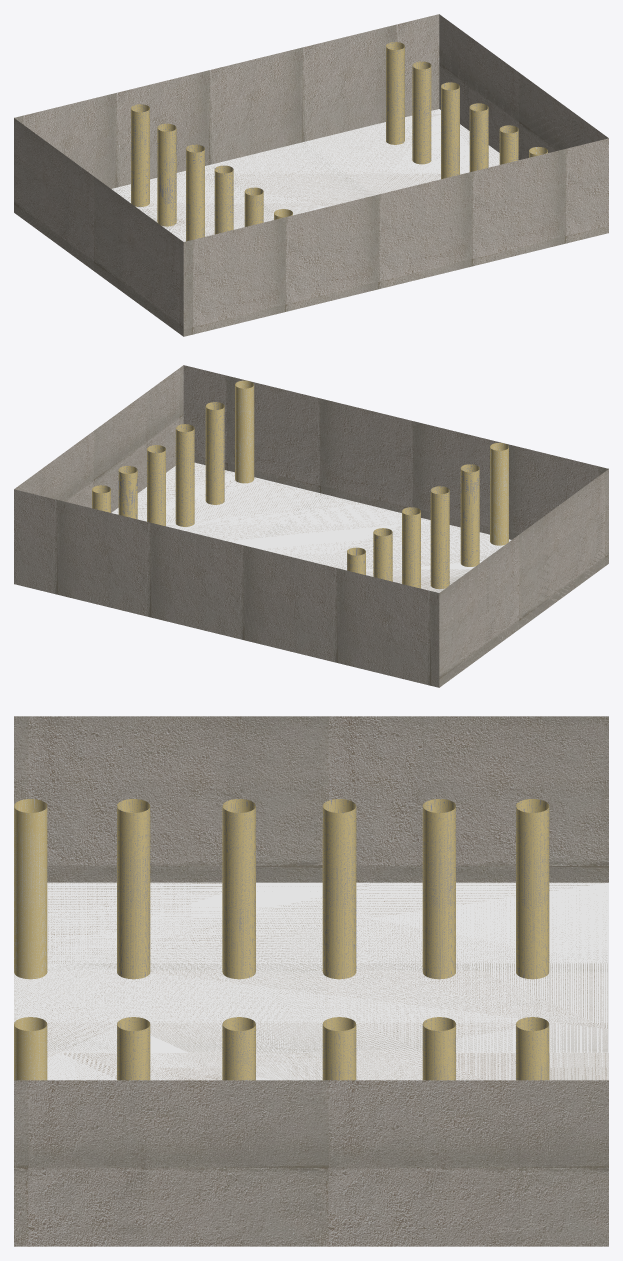
File: COM015.obj
3 renders of one model, top to bottom at view 1: azimuth 30°, elevation 25°; view 2: azimuth 150°, elevation 25°; view 3: azimuth 270°, elevation 25°, orthographic. The views are drawn at different scales.
Parts seen in each view (by area): view 1: Mesh3 Group1 Model, Mesh1 Group1 Model, Mesh11 Group1 Model, Mesh2 Group1 Model, Mesh4 Group1 Model, Mesh7 Group1 Model, Mesh9 Group1 Model, Mesh6 Group1 Model, Mesh10 Group1 Model, Mesh5 Group1 Model, Mesh8 Group1 Model; view 2: Mesh3 Group1 Model, Mesh6 Group1 Model, Mesh8 Group1 Model, Mesh5 Group1 Model, Mesh10 Group1 Model, Mesh9 Group1 Model, Mesh7 Group1 Model, Mesh11 Group1 Model, Mesh1 Group1 Model, Mesh2 Group1 Model, Mesh4 Group1 Model; view 3: Mesh3 Group1 Model, Mesh9 Group1 Model, Mesh10 Group1 Model, Mesh5 Group1 Model, Mesh4 Group1 Model, Mesh11 Group1 Model, Mesh7 Group1 Model, Mesh6 Group1 Model, Mesh1 Group1 Model, Mesh2 Group1 Model, Mesh8 Group1 Model.
Part boxes in pixels (bbox=[...]): Mesh3 Group1 Model: bbox=[14, 14, 608, 336]; Mesh1 Group1 Model: bbox=[412, 61, 431, 164]; Mesh11 Group1 Model: bbox=[157, 123, 176, 226]; Mesh2 Group1 Model: bbox=[386, 42, 404, 144]; Mesh4 Group1 Model: bbox=[131, 104, 149, 206]; Mesh7 Group1 Model: bbox=[441, 82, 459, 179]; Mesh9 Group1 Model: bbox=[186, 144, 204, 241]; Mesh6 Group1 Model: bbox=[469, 103, 488, 171]; Mesh10 Group1 Model: bbox=[214, 165, 233, 234]; Mesh5 Group1 Model: bbox=[244, 187, 263, 226]; Mesh8 Group1 Model: bbox=[499, 125, 518, 164]; Mesh3 Group1 Model: bbox=[14, 365, 608, 687]; Mesh6 Group1 Model: bbox=[175, 424, 194, 526]; Mesh8 Group1 Model: bbox=[205, 402, 224, 504]; Mesh5 Group1 Model: bbox=[460, 464, 479, 566]; Mesh10 Group1 Model: bbox=[430, 486, 449, 589]; Mesh9 Group1 Model: bbox=[402, 507, 420, 588]; Mesh7 Group1 Model: bbox=[147, 445, 165, 526]; Mesh11 Group1 Model: bbox=[373, 528, 392, 581]; Mesh1 Group1 Model: bbox=[118, 466, 137, 519]; Mesh2 Group1 Model: bbox=[92, 485, 110, 512]; Mesh4 Group1 Model: bbox=[347, 547, 365, 574]; Mesh3 Group1 Model: bbox=[14, 716, 608, 1246]; Mesh9 Group1 Model: bbox=[322, 799, 356, 979]; Mesh10 Group1 Model: bbox=[222, 799, 255, 979]; Mesh5 Group1 Model: bbox=[117, 799, 150, 979]; Mesh4 Group1 Model: bbox=[516, 799, 549, 979]; Mesh11 Group1 Model: bbox=[422, 799, 455, 979]; Mesh7 Group1 Model: bbox=[322, 1017, 356, 1080]; Mesh6 Group1 Model: bbox=[222, 1017, 255, 1080]; Mesh1 Group1 Model: bbox=[422, 1017, 455, 1080]; Mesh2 Group1 Model: bbox=[516, 1017, 549, 1080]; Mesh8 Group1 Model: bbox=[117, 1017, 150, 1080].
Bounding box in the file's own units: 13.97 × 2.98 × 9.65.
4 materials, 1 textured.
